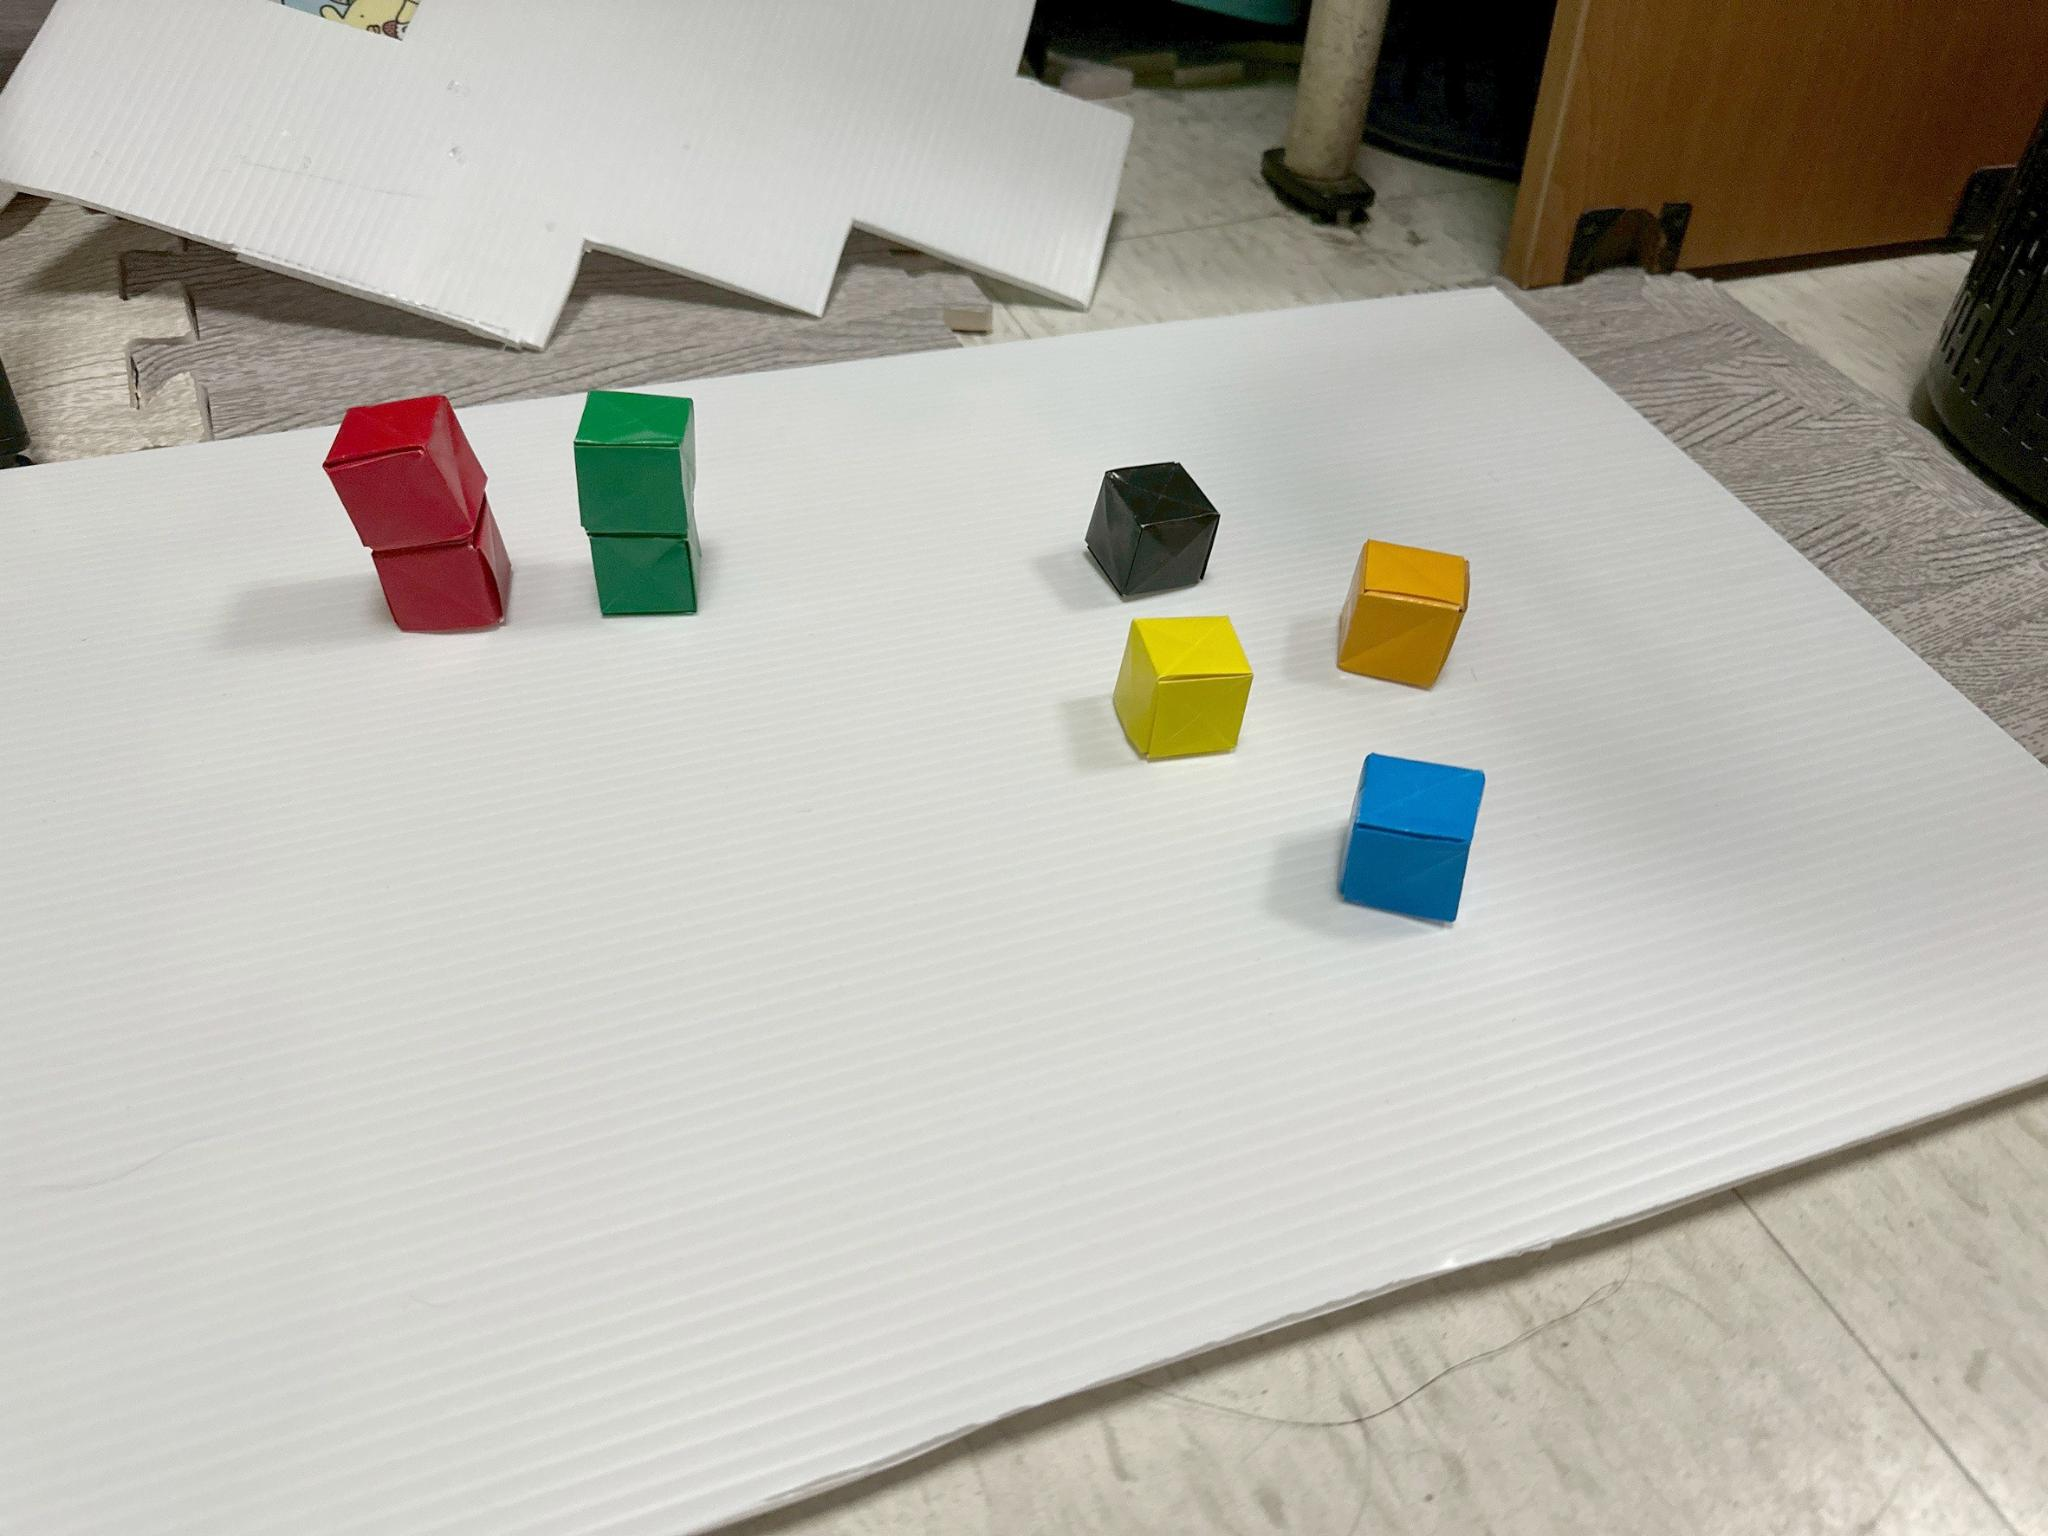cube: (324, 395, 487, 550), (1340, 755, 1485, 923), (1114, 616, 1253, 760), (1337, 541, 1469, 687), (374, 500, 511, 631), (1087, 463, 1219, 597), (576, 390, 695, 536), (589, 520, 701, 615)
